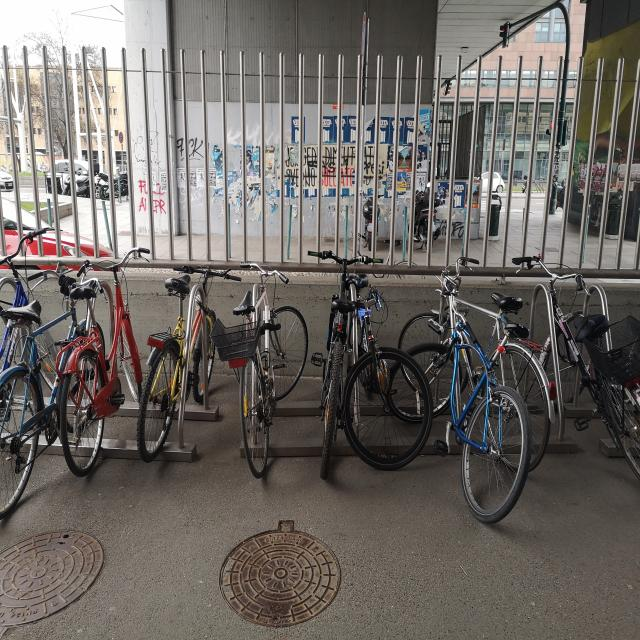Bicycle: (0, 272, 100, 524), (540, 230, 640, 479), (134, 246, 232, 467), (232, 242, 312, 493), (409, 262, 546, 405), (412, 320, 527, 486), (67, 261, 151, 477), (353, 278, 423, 476), (0, 221, 57, 416), (312, 230, 354, 482)
